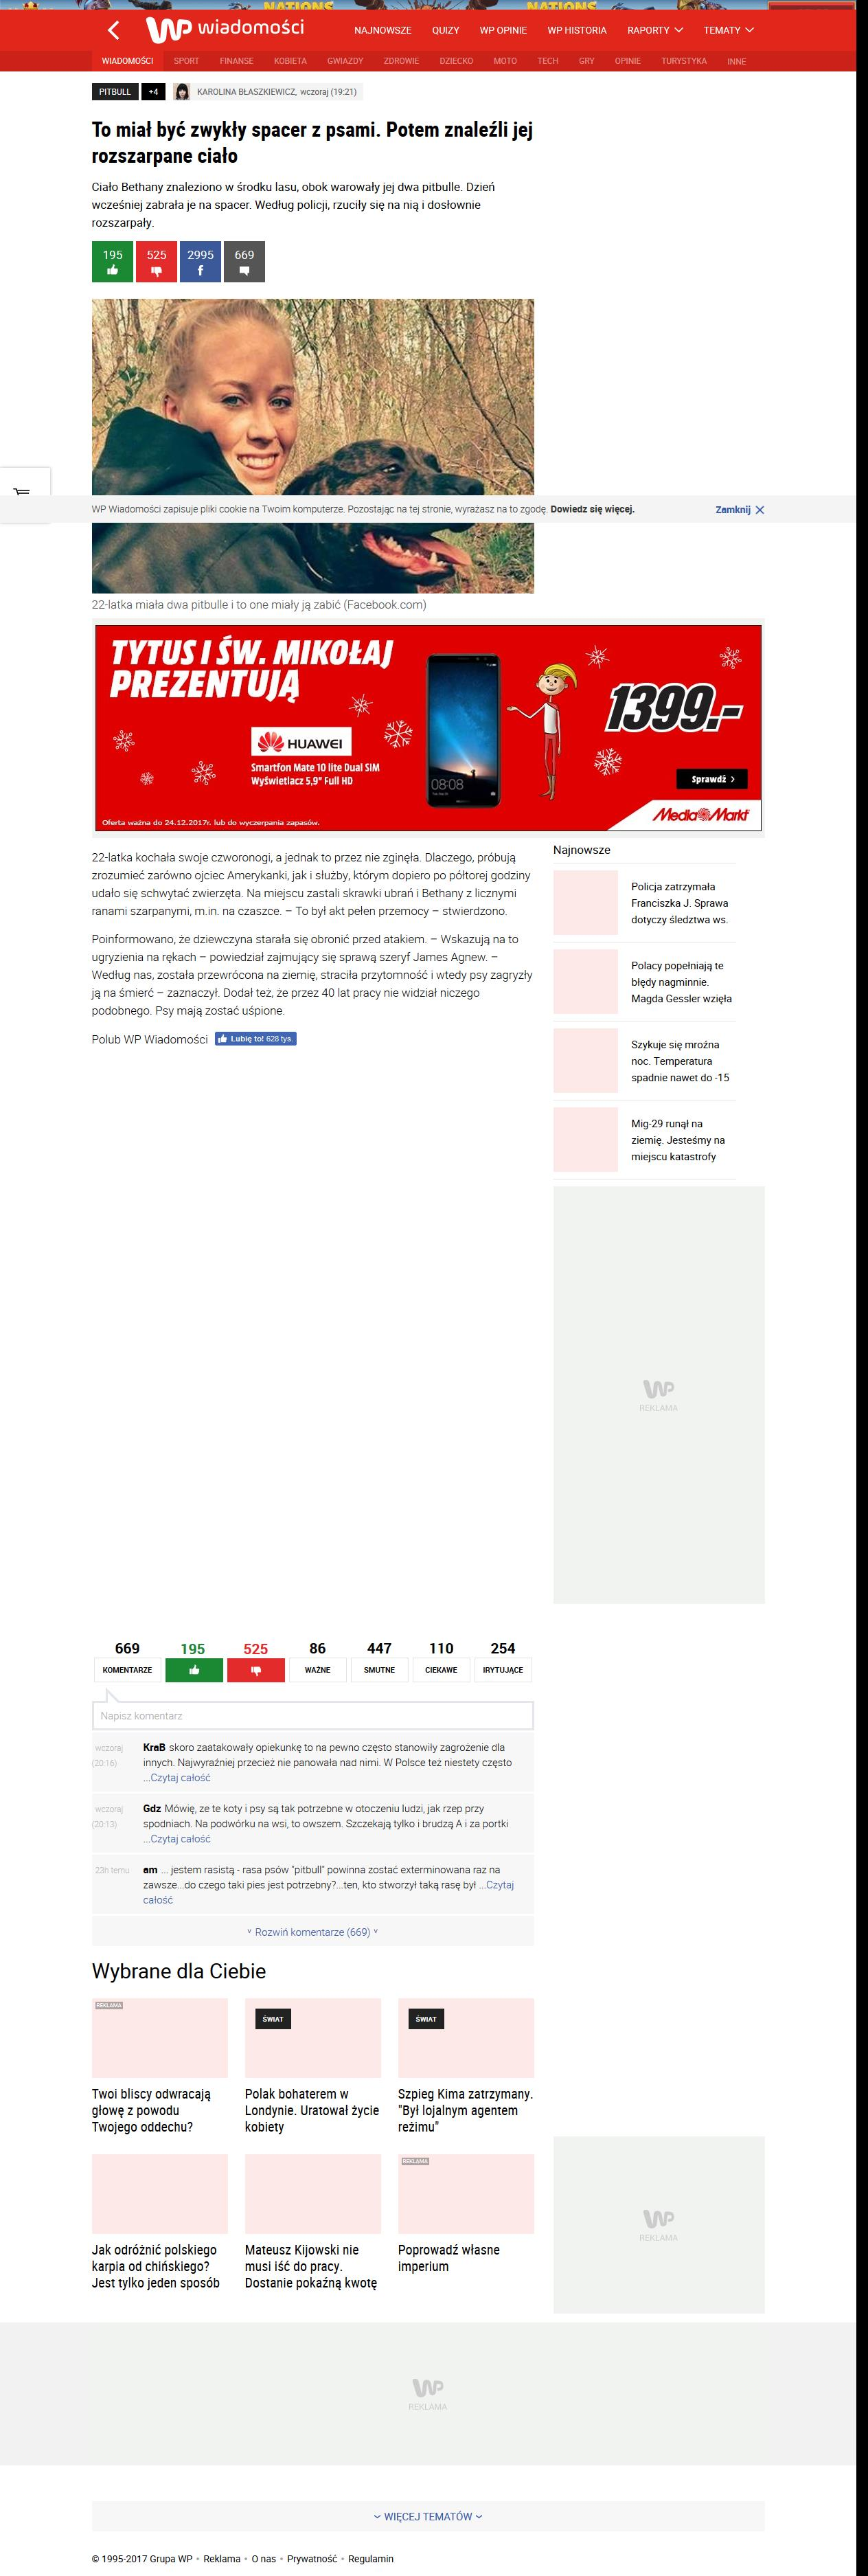title: (90, 120, 533, 168)
